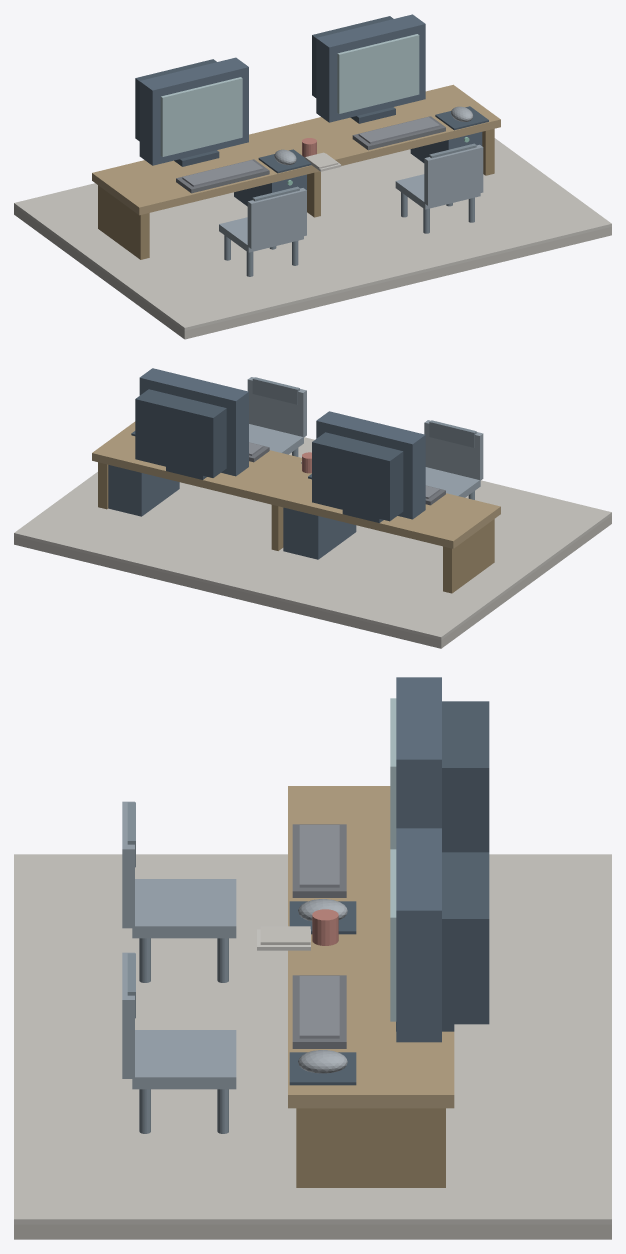
Rendered from internet-corner.glb.
The picture shows the model from 3 angles, top to bottom: view 1: azimuth 30°, elevation 25°; view 2: azimuth 150°, elevation 25°; view 3: azimuth 270°, elevation 25°; orthographic projection. The views are drawn at different scales.
Visible parts, largest first — view 1: part_13, part_10, part_01, part_09, part_05, part_12, part_08, part_00, part_04, part_03, part_02, part_07; view 2: part_13, part_00, part_01, part_10, part_05, part_12, part_08, part_03; view 3: part_13, part_10, part_00, part_01, part_05, part_08, part_12, part_04, part_02, part_03, part_09, part_07 (+2 smaller).
Part boxes in pixels (left/top/right/bottom): part_13: left=14, top=138, right=611, bottom=330; part_10: left=92, top=84, right=500, bottom=215; part_01: left=139, top=14, right=482, bottom=206; part_09: left=160, top=34, right=419, bottom=156; part_05: left=219, top=144, right=483, bottom=252; part_12: left=14, top=206, right=611, bottom=339; part_08: left=98, top=128, right=494, bottom=259; part_00: left=135, top=16, right=488, bottom=173; part_04: left=182, top=117, right=439, bottom=186; part_03: left=224, top=143, right=476, bottom=276; part_02: left=176, top=116, right=445, bottom=193; part_07: left=274, top=106, right=473, bottom=165; part_13: left=14, top=437, right=611, bottom=639; part_00: left=131, top=389, right=403, bottom=522; part_01: left=108, top=368, right=425, bottom=559; part_10: left=92, top=421, right=500, bottom=548; part_05: left=247, top=377, right=483, bottom=497; part_12: left=14, top=515, right=611, bottom=648; part_08: left=98, top=462, right=494, bottom=593; part_03: left=252, top=377, right=476, bottom=499; part_13: left=14, top=854, right=611, bottom=1224; part_10: left=288, top=786, right=454, bottom=1108; part_00: left=289, top=701, right=489, bottom=1085; part_01: left=396, top=677, right=441, bottom=1042; part_05: left=122, top=801, right=236, bottom=1089; part_08: left=296, top=1108, right=445, bottom=1187; part_12: left=14, top=1224, right=611, bottom=1239; part_04: left=299, top=825, right=339, bottom=1038; part_02: left=292, top=824, right=346, bottom=1048; part_03: left=127, top=802, right=228, bottom=1133; part_09: left=390, top=698, right=396, bottom=1021; part_07: left=298, top=899, right=347, bottom=1073.
Bounding box in the file's own units: 10.4 × 3.49 × 7.2.
